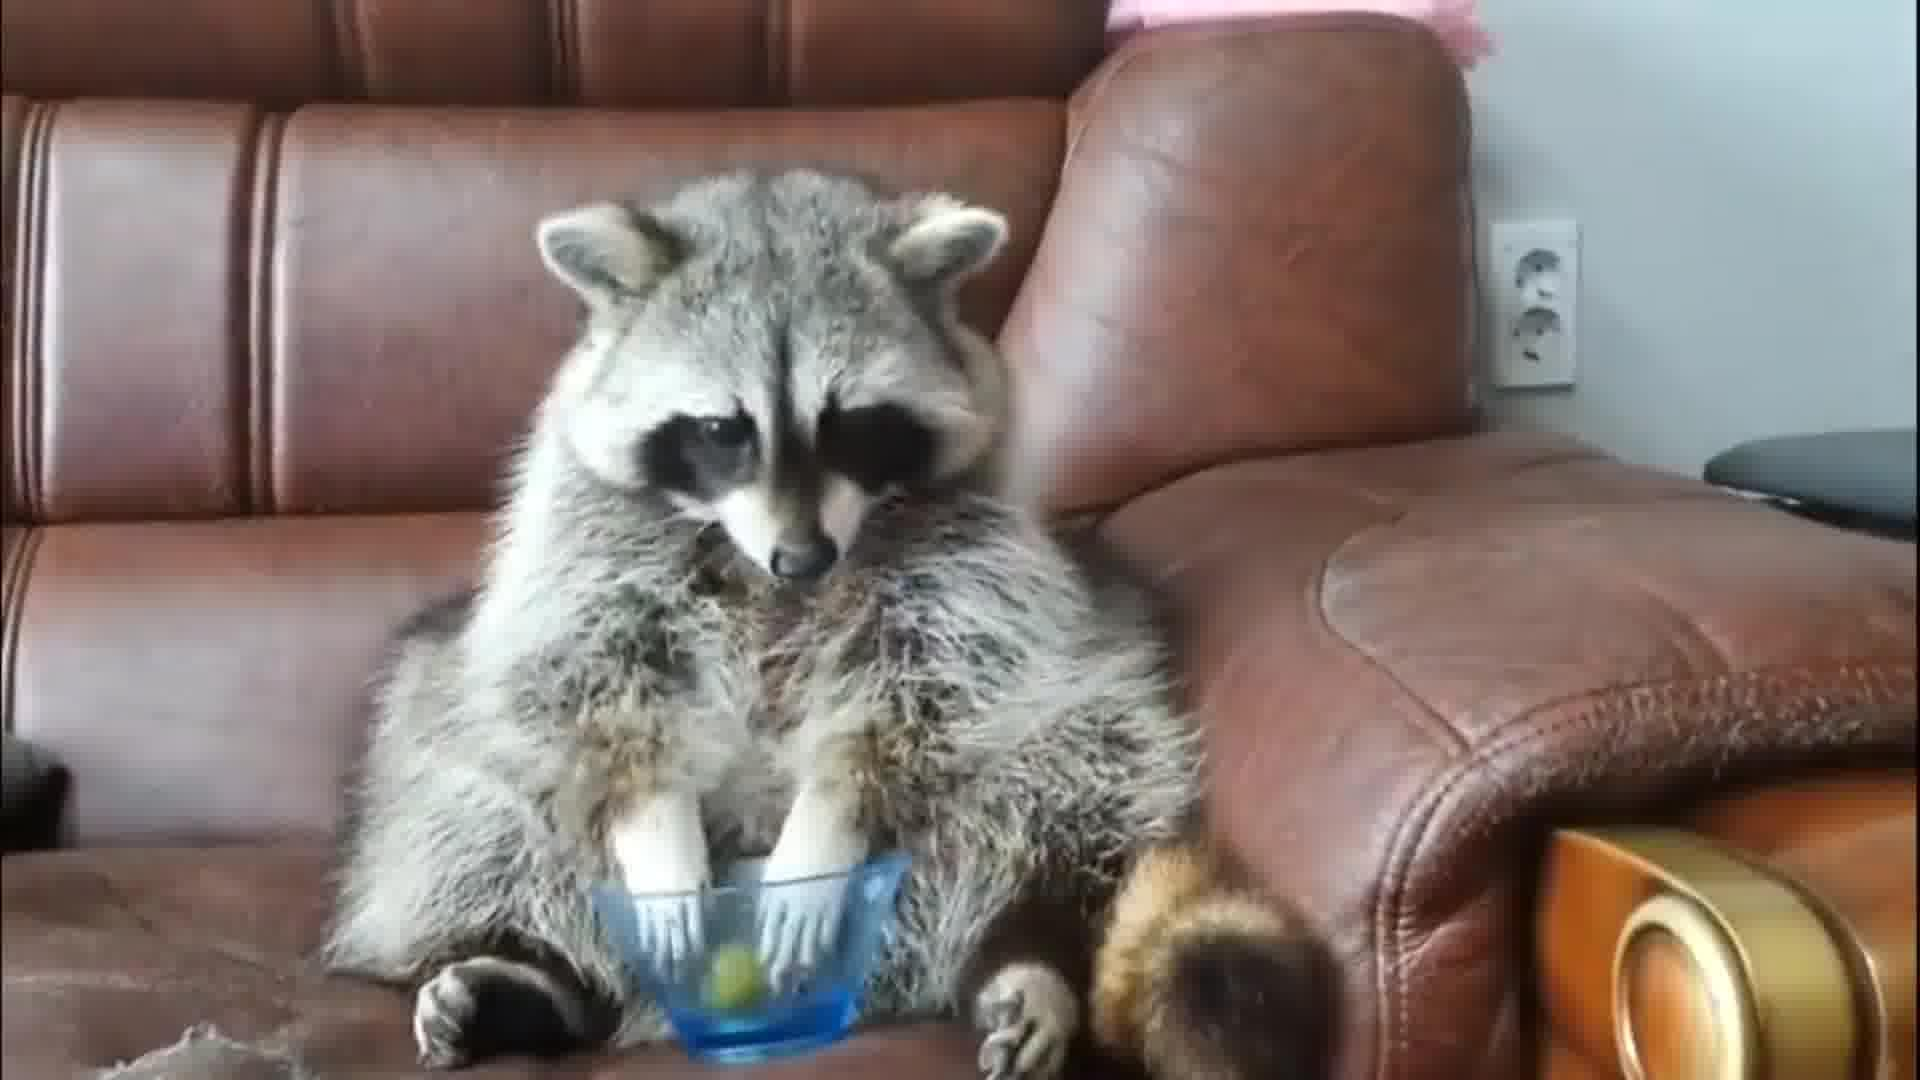raccoon: (314, 141, 1354, 1080)
